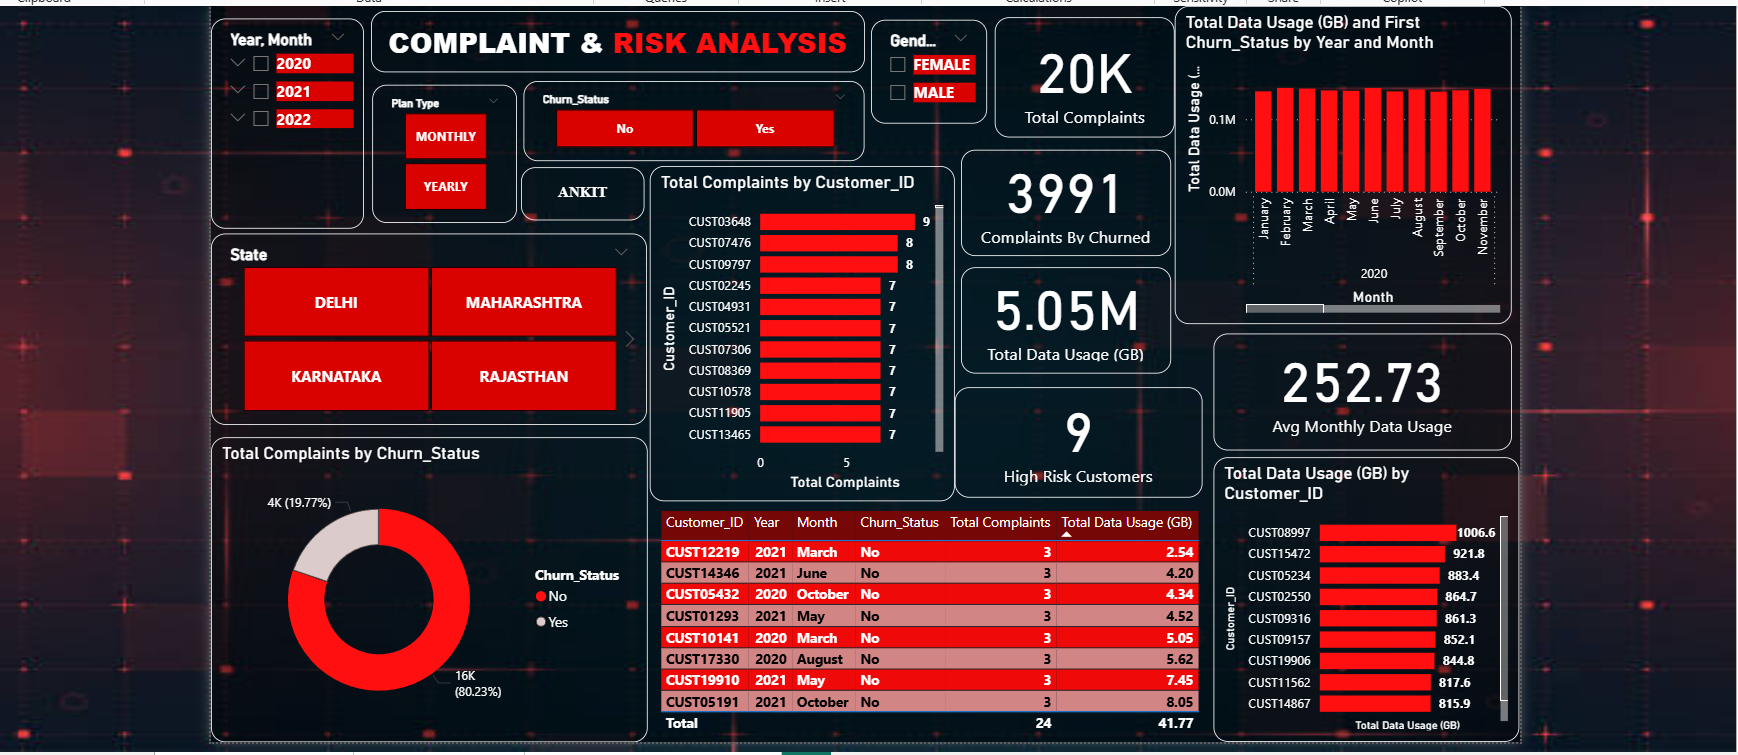

Layout of this report page (visuals, bound fields, positions):
{"tool":"powerbi","page":{"name":"COMPLAINT & RISK ANALYSIS","canvas":[1280,720],"ordinal":2},"visuals":[{"type":"card","fields":{"Values":["Subscriptions.Avg Monthly Data Usage"]},"box":[980.7,320.4,291.7,114.6],"z":0},{"type":"card","fields":{"Values":["Customers.Complaints By Churned"]},"box":[733.3,140.7,205.8,104.2],"z":1000},{"type":"barChart","fields":{"Category":["Usage.Customer_ID"],"Y":["Subscriptions.Total Data Usage (GB)"]},"box":[980.7,441.5,299.6,278.7],"z":2000},{"type":"advancedSlicerVisual","fields":{"Values":["Customers.State"]},"box":[0,222.6,426.8,187.1],"z":3000},{"type":"advancedSlicerVisual","fields":{"Values":["Customers.Churn_Status"]},"box":[306.1,72.9,333.4,78.1],"z":4000},{"type":"slicer","fields":{"Values":["Usage.Month_Year.Variation.Date Hierarchy.Year","Usage.Month_Year.Variation.Date Hierarchy.Month"]},"box":[0,11.7,149.8,205.8],"z":5000},{"type":"advancedSlicerVisual","fields":{"Values":["Subscriptions.Plan_Type"]},"box":[157.6,76.8,142,135.5],"z":6000},{"type":"textbox","box":[156.3,5.2,483.2,59.9],"z":7000},{"type":"textbox","box":[303.5,157.6,121.1,52.1],"z":8000},{"type":"card","fields":{"Values":["Usage.Total Complaints"]},"box":[767.1,10.4,175.8,117.2],"z":9000},{"type":"card","fields":{"Values":["Subscriptions.Total Data Usage (GB)"]},"box":[733.3,255.3,205.8,104.2],"z":10000},{"type":"card","fields":{"Values":["Subscriptions.High Risk Customers"]},"box":[728,372.5,242.2,108.1],"z":11000},{"type":"clusteredColumnChart","fields":{"Y":["Subscriptions.Total Data Usage (GB)"],"Category":["Usage.Month_Year.Variation.Date Hierarchy.Year","Usage.Month_Year.Variation.Date Hierarchy.Month"]},"box":[942.9,0,329.5,311.3],"z":12000},{"type":"barChart","fields":{"Category":["Customers.Customer_ID"],"Y":["Usage.Total Complaints"]},"box":[429.8,156.3,298.3,328.2],"z":13000},{"type":"donutChart","fields":{"Category":["Customers.Churn_Status"],"Y":["Usage.Total Complaints"]},"box":[0,422,427.2,298.3],"z":14000},{"type":"tableEx","fields":{"Values":["Usage.Customer_ID","Usage.Month_Year.Variation.Date Hierarchy.Year","Usage.Month_Year.Variation.Date Hierarchy.Month","Customers.Churn_Status","Usage.Total Complaints","Subscriptions.Total Data Usage (GB)"]},"box":[433.7,489.7,547,230.5],"z":15000},{"type":"advancedSlicerVisual","fields":{"Values":["Customers.Gender"]},"box":[646.9,11,113.7,117.4],"z":16000}]}

Visuals, with their boxes on the page's 1280x720 design canvas (x1, y1, x2, y2). These are canvas units, not pixel positions in the 1738x755 screenshot, which may show the page scaled, cropped or inside an application window:
card - Subscriptions.Avg Monthly Data Usage: {"x1": 981, "y1": 320, "x2": 1272, "y2": 435}
card - Customers.Complaints By Churned: {"x1": 733, "y1": 141, "x2": 939, "y2": 245}
barChart - Usage.Customer_ID x Subscriptions.Total Data Usage (GB): {"x1": 981, "y1": 442, "x2": 1280, "y2": 720}
advancedSlicerVisual - Customers.State: {"x1": 0, "y1": 223, "x2": 427, "y2": 410}
advancedSlicerVisual - Customers.Churn_Status: {"x1": 306, "y1": 73, "x2": 640, "y2": 151}
slicer - Usage.Month_Year.Variation.Date Hierarchy.Year x Usage.Month_Year.Variation.Date Hierarchy.Month: {"x1": 0, "y1": 12, "x2": 150, "y2": 218}
advancedSlicerVisual - Subscriptions.Plan_Type: {"x1": 158, "y1": 77, "x2": 300, "y2": 212}
textbox: {"x1": 156, "y1": 5, "x2": 640, "y2": 65}
textbox: {"x1": 304, "y1": 158, "x2": 425, "y2": 210}
card - Usage.Total Complaints: {"x1": 767, "y1": 10, "x2": 943, "y2": 128}
card - Subscriptions.Total Data Usage (GB): {"x1": 733, "y1": 255, "x2": 939, "y2": 360}
card - Subscriptions.High Risk Customers: {"x1": 728, "y1": 372, "x2": 970, "y2": 481}
clusteredColumnChart - Subscriptions.Total Data Usage (GB) x Usage.Month_Year.Variation.Date Hierarchy.Year: {"x1": 943, "y1": 0, "x2": 1272, "y2": 311}
barChart - Customers.Customer_ID x Usage.Total Complaints: {"x1": 430, "y1": 156, "x2": 728, "y2": 484}
donutChart - Customers.Churn_Status x Usage.Total Complaints: {"x1": 0, "y1": 422, "x2": 427, "y2": 720}
tableEx - Usage.Customer_ID x Usage.Month_Year.Variation.Date Hierarchy.Year: {"x1": 434, "y1": 490, "x2": 981, "y2": 720}
advancedSlicerVisual - Customers.Gender: {"x1": 647, "y1": 11, "x2": 761, "y2": 128}
